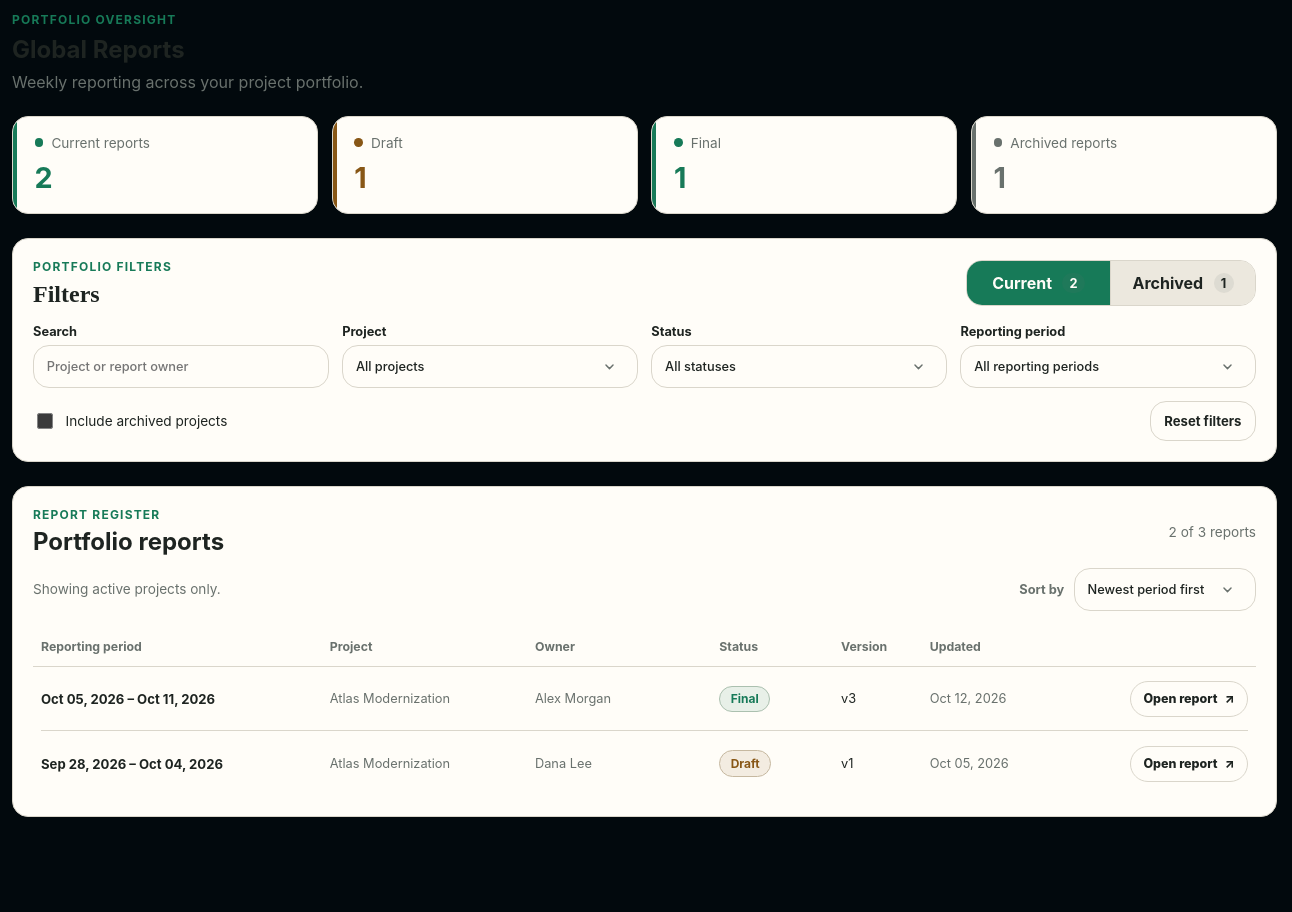
Test: GlobalReportsPage › switches lifecycle independently from project archival
The width and height of the screenshot is (1292, 912).
Expected: the heading "Global Reports" is shown, [12,35,185,64]
Click the button "Archived 1": click(1183, 283) [1111,261,1255,305]
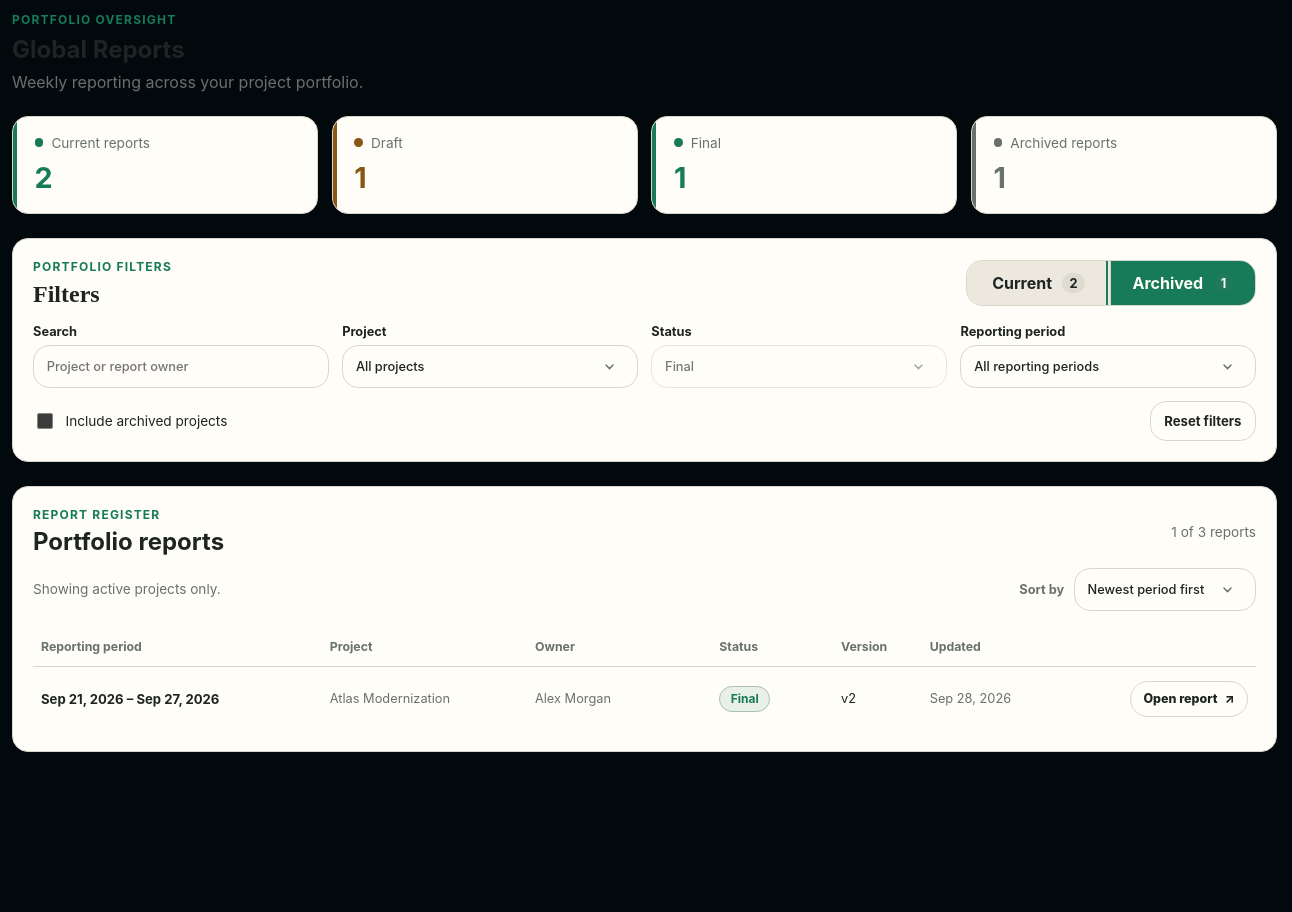
Now the number of links "Open report ↗" is 1, box [1130,681,1248,717]
Now the dropdown labelled "Status" is disabled, box [651,345,947,388]
Click the checkbox labelled "Include archived projects": click(45, 421) [37,413,53,429]
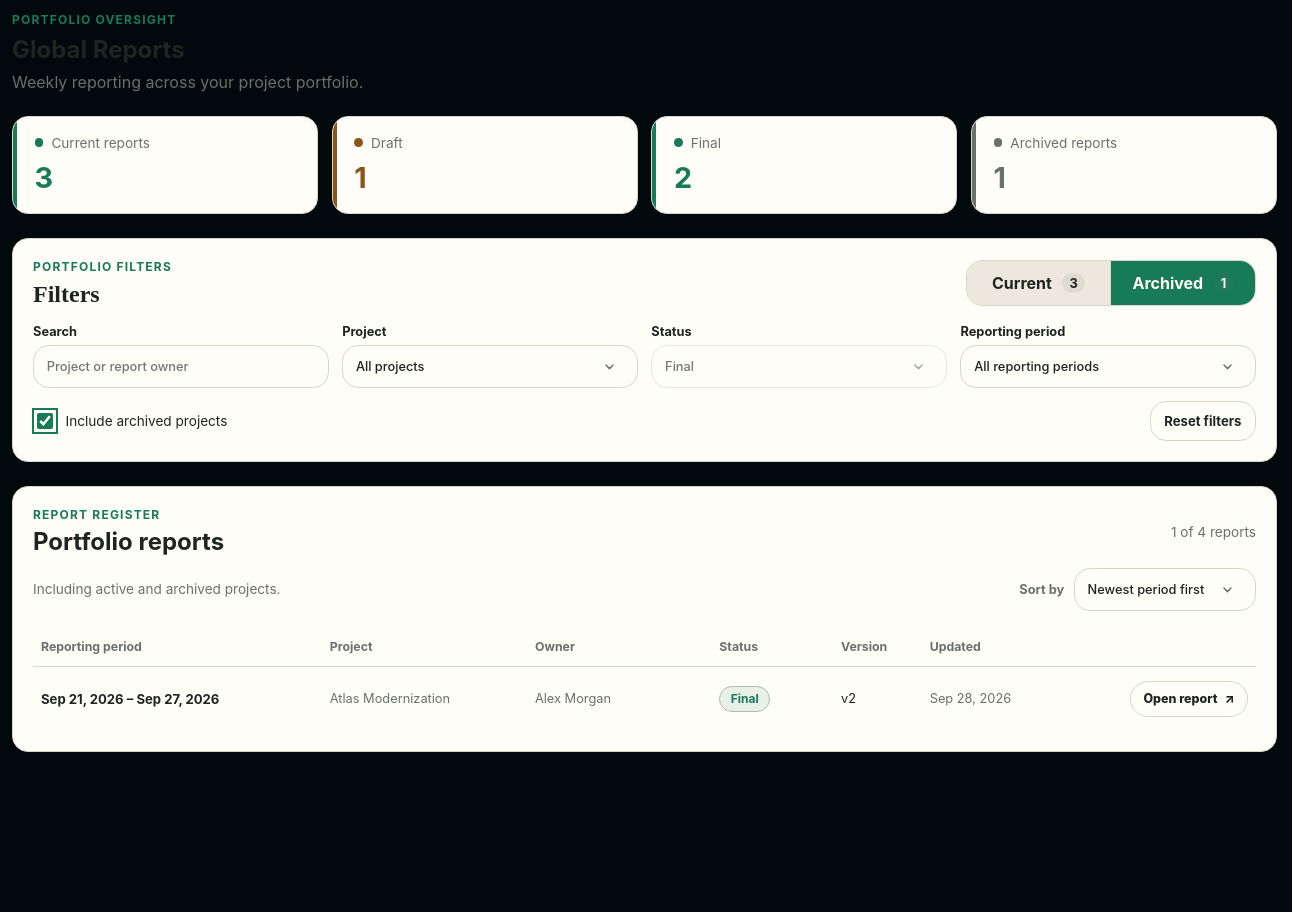
Click the button "Current 3": click(1039, 283) [967,261,1111,305]
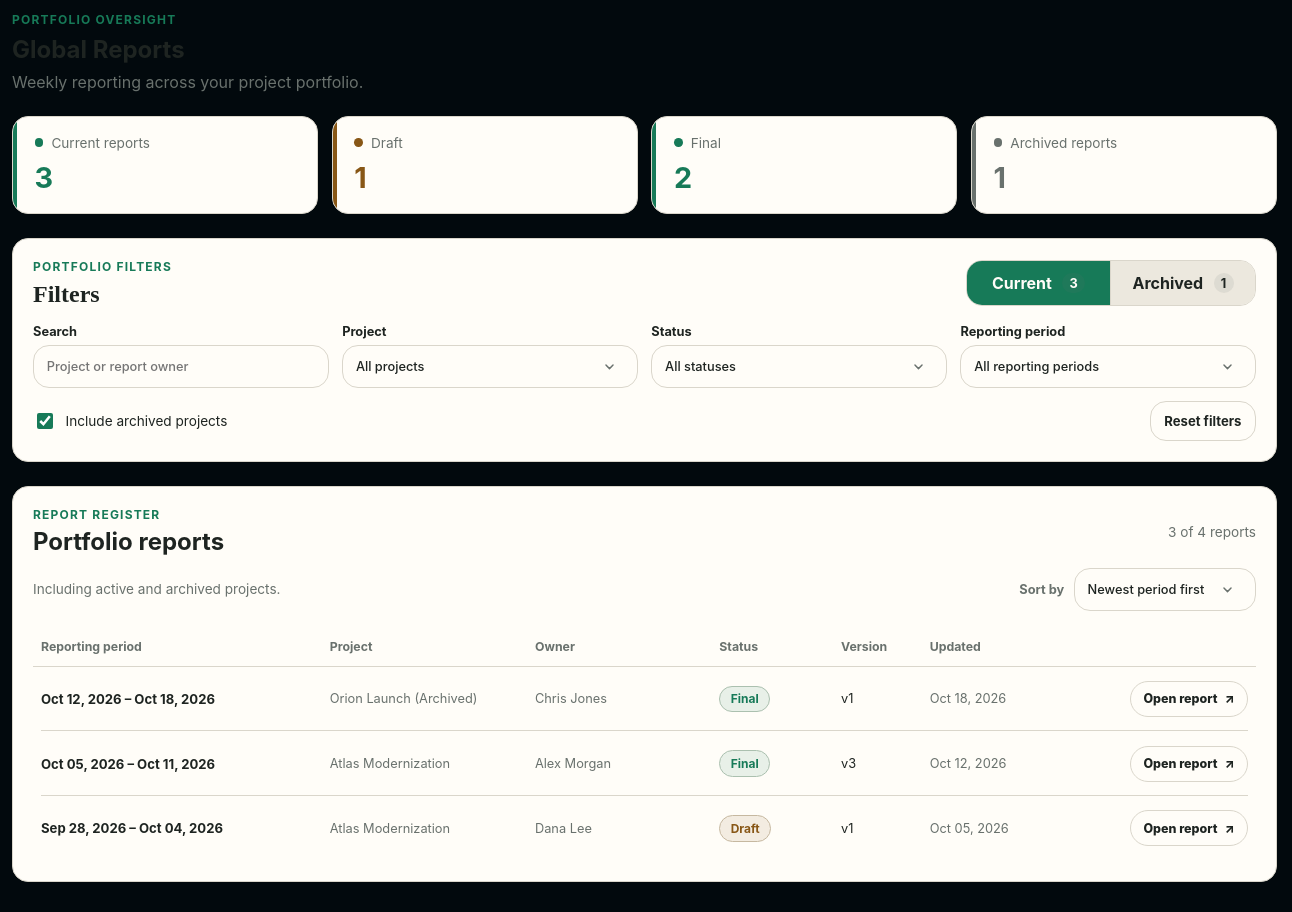
Now the text "Orion Launch (Archived)" is shown, box [330,691,477,706]
